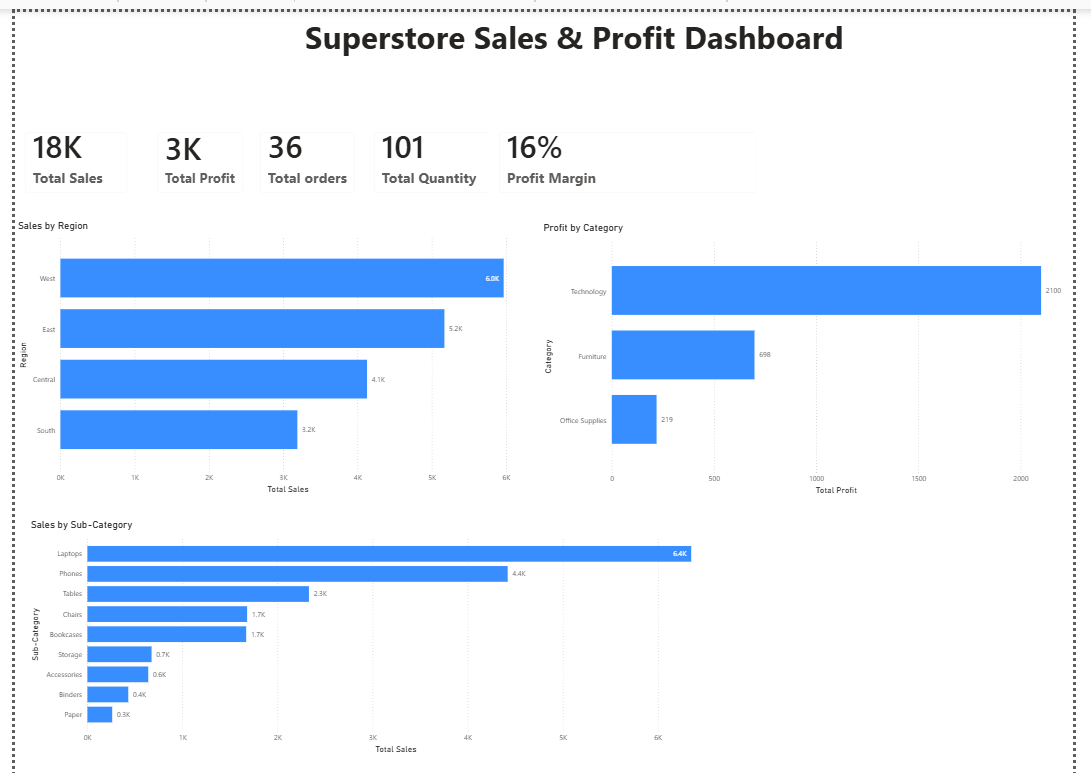

What the dashboard file says about the page in this screenshot:
{"tool":"powerbi","page":{"name":"Page 1","canvas":[1800,2000],"ordinal":0},"visuals":[{"type":"cardVisual","fields":{"Data":["Sheet1.Total Sales"]},"box":[0,187.5,207.5,137.5],"z":0},{"type":"cardVisual","fields":{"Data":["Sheet1.Total Profit"]},"box":[225,187.5,180,137.5],"z":1000},{"type":"cardVisual","fields":{"Data":["Sheet1.Total orders"]},"box":[400,187.5,195,137.5],"z":2000},{"type":"cardVisual","fields":{"Data":["Sheet1.Total Quantity"]},"box":[595,187.5,245,137.5],"z":3000},{"type":"cardVisual","fields":{"Data":["Sheet1.Profit Margin 1"]},"box":[807.5,187.5,472.5,137.5],"z":4000},{"type":"clusteredBarChart","title":"Sales by Region","fields":{"Category":["Sheet1.Region"],"Y":["Sheet1.Total Sales"]},"box":[0,354.5,864.2,470.9],"z":5000},{"type":"clusteredBarChart","title":"Profit by Category","fields":{"Category":["Sheet1.Category"],"Y":["Sheet1.Total Profit"]},"box":[893.3,356.7,903.3,470],"z":6000},{"type":"clusteredBarChart","title":" Sales by Sub-Category","fields":{"Category":["Sheet1.Sub-Category"],"Y":["Sheet1.Total Sales"]},"box":[23.3,863.3,1163.3,403.3],"z":7000},{"type":"listSlicer","title":"Region ","fields":{"Values":["Sheet1.Region"]},"box":[22.2,1357.2,398.8,315.7],"z":8000},{"type":"listSlicer","title":"Category ","fields":{"Values":["Sheet1.Category"]},"box":[432.1,1357.2,365.6,426.5],"z":9000},{"type":"listSlicer","title":"Segment ","fields":{"Values":["Sheet1.Segment"]},"box":[797.7,1357.2,376.7,426.5],"z":10000},{"type":"textbox","box":[105,0,1690,100],"z":11000},{"type":"textbox","box":[27.7,1723.4,1159.6,276.6],"z":12000}]}

Visuals, with their boxes on the page's 1800x2000 design canvas (x1, y1, x2, y2). These are canvas units, not pixel positions in the 1091x773 screenshot, which may show the page scaled, cropped or inside an application window:
cardVisual - Sheet1.Total Sales: crop(0, 188, 208, 325)
cardVisual - Sheet1.Total Profit: crop(225, 188, 405, 325)
cardVisual - Sheet1.Total orders: crop(400, 188, 595, 325)
cardVisual - Sheet1.Total Quantity: crop(595, 188, 840, 325)
cardVisual - Sheet1.Profit Margin 1: crop(808, 188, 1280, 325)
"Sales by Region" clusteredBarChart: crop(0, 354, 864, 825)
"Profit by Category" clusteredBarChart: crop(893, 357, 1797, 827)
" Sales by Sub-Category" clusteredBarChart: crop(23, 863, 1187, 1267)
"Region " listSlicer: crop(22, 1357, 421, 1673)
"Category " listSlicer: crop(432, 1357, 798, 1784)
"Segment " listSlicer: crop(798, 1357, 1174, 1784)
textbox: crop(105, 0, 1795, 100)
textbox: crop(28, 1723, 1187, 2000)
